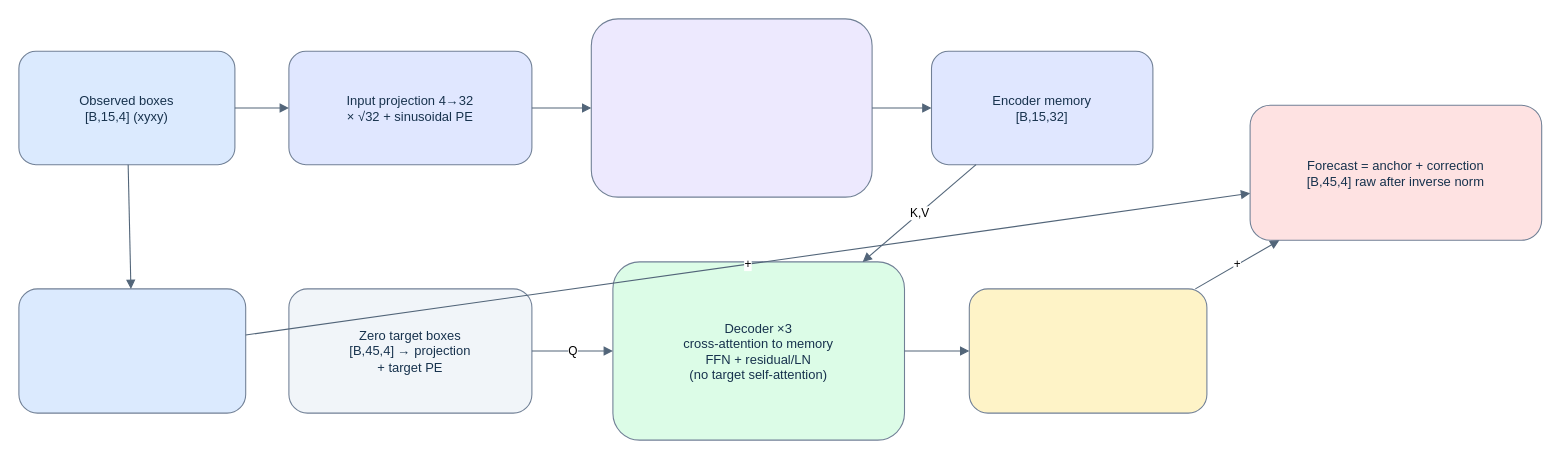
Some shapes in this 1561 by 459 pixel diagram are drawn without their labels. The shapes that lost their labels are listed below. From the top down, each one's box as (x1, y1, x2, y2) in pixels, then its label:
(590, 18, 872, 197): Encoder ×3 4 heads, d=32 FFN 32→128→32 (ReLU)
(18, 288, 246, 413): CV anchor [B,45,4] last box + k·velocity velocity=(x[t]-x[t-2])/2
(968, 288, 1207, 413): Generator 32→4 correction [B,45,4]
